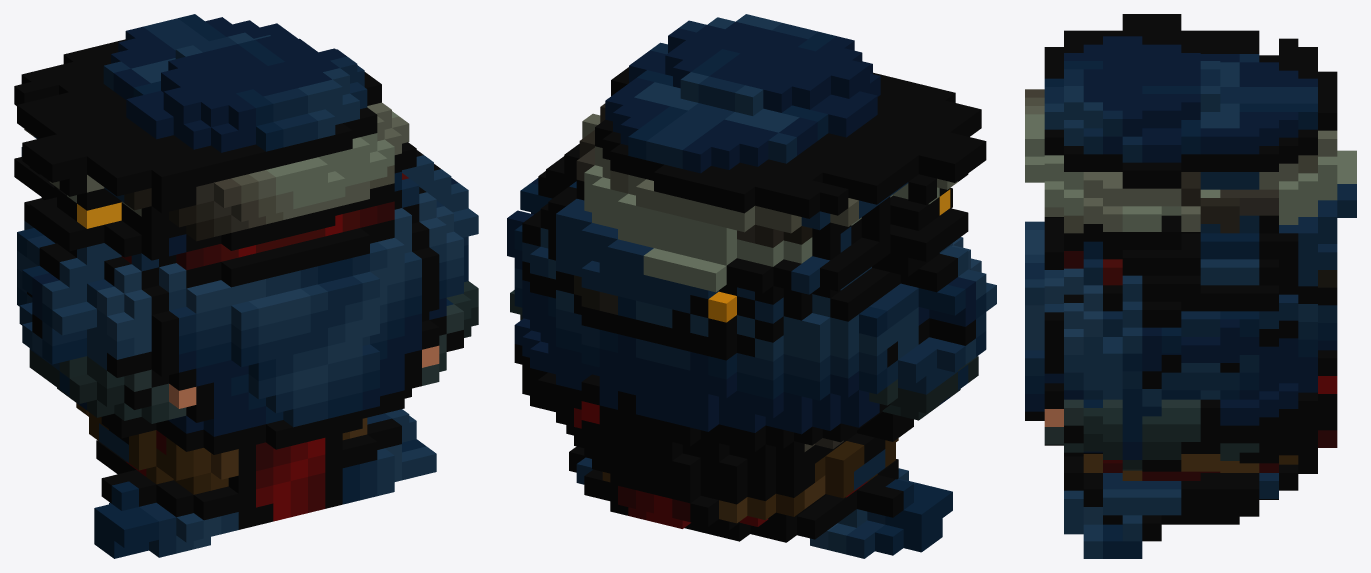
Rendered from Icon_727_03.obj.
3 views of the same model, side by side, from view 1: azimuth 30°, elevation 25°; view 2: azimuth 150°, elevation 25°; view 3: azimuth 270°, elevation 25° (orthographic). The views are drawn at different scales.
Bounding box in the file's own units: 2.4 × 2.4 × 1.7.
